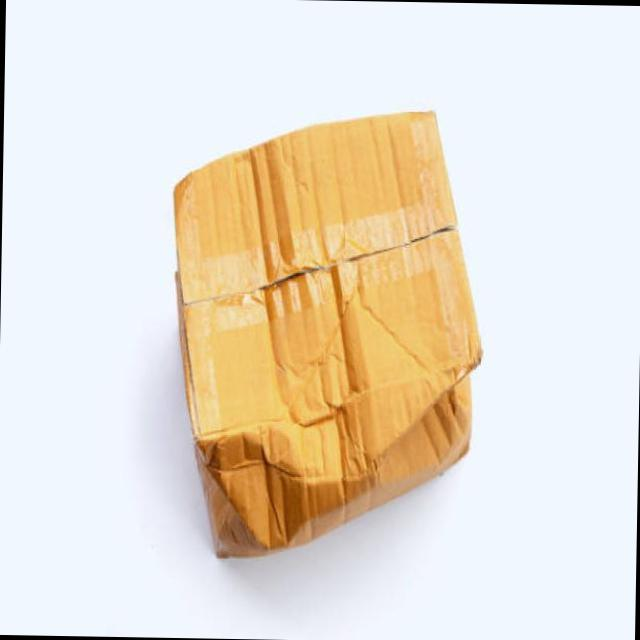box: (169, 108, 486, 564)
crushed: (172, 108, 485, 563)
